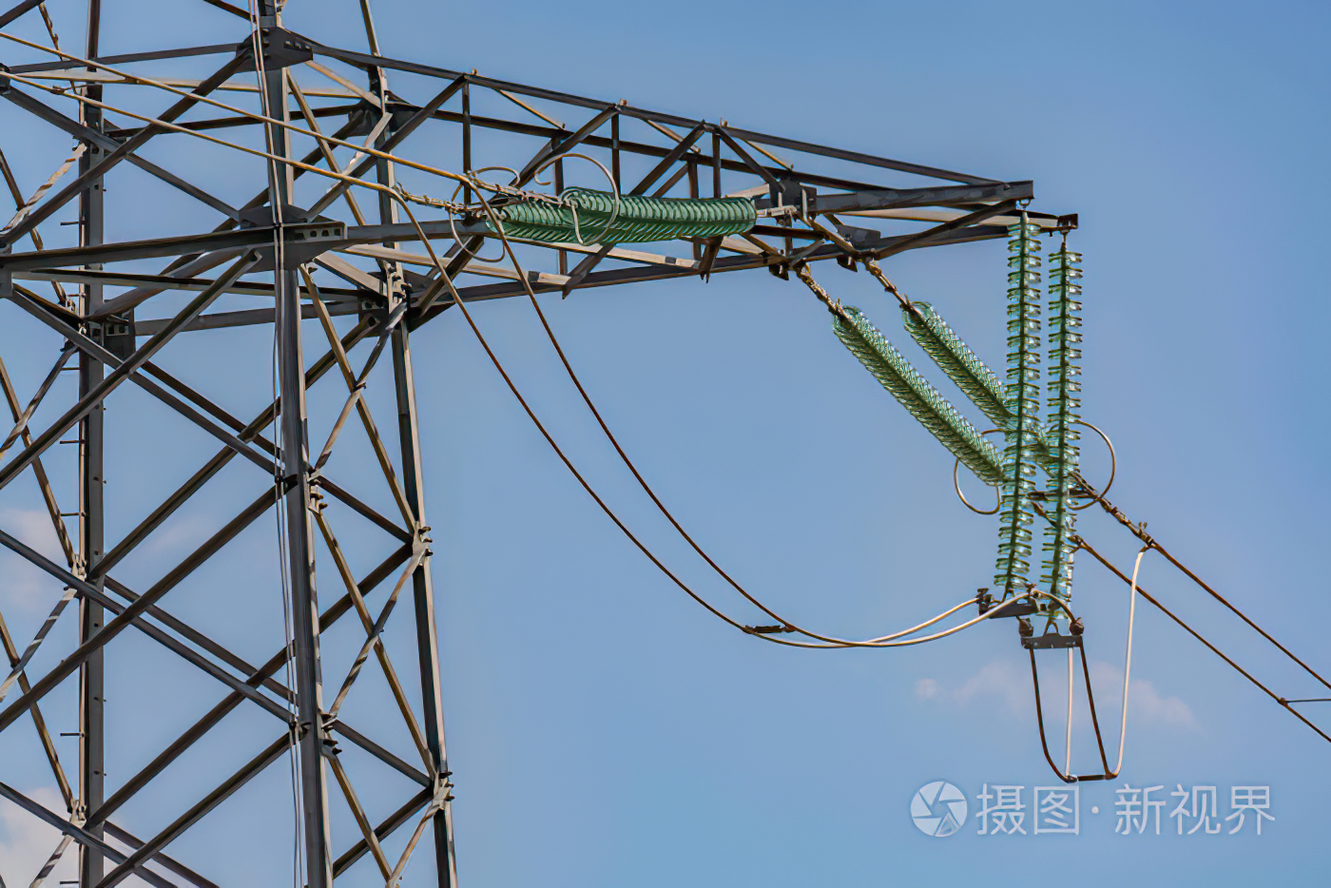insulator: (833, 301, 1063, 482), (996, 216, 1085, 629), (478, 189, 766, 244)
